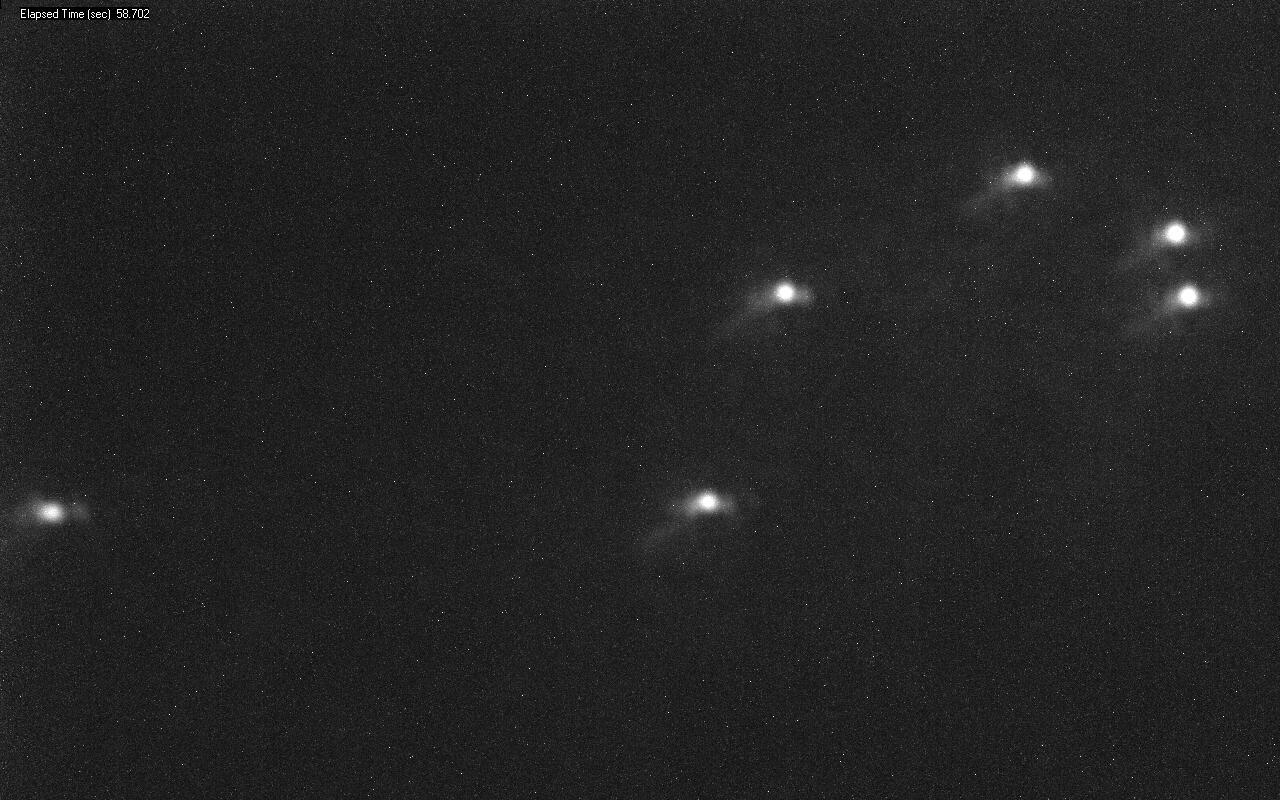Bead: (770, 281, 807, 307), (1005, 163, 1043, 187), (35, 501, 72, 522), (1174, 284, 1204, 308), (1157, 221, 1188, 244), (692, 492, 726, 512)
